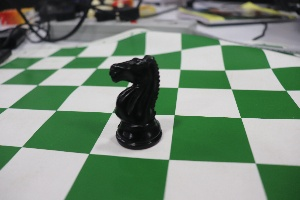black_horse: (103, 42, 169, 152)
